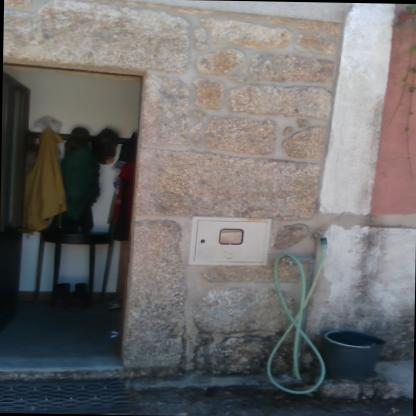open: (0, 49, 157, 378)
